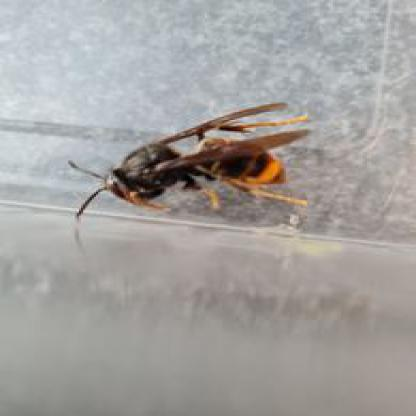Asian Hornet: (76, 101, 327, 240)
